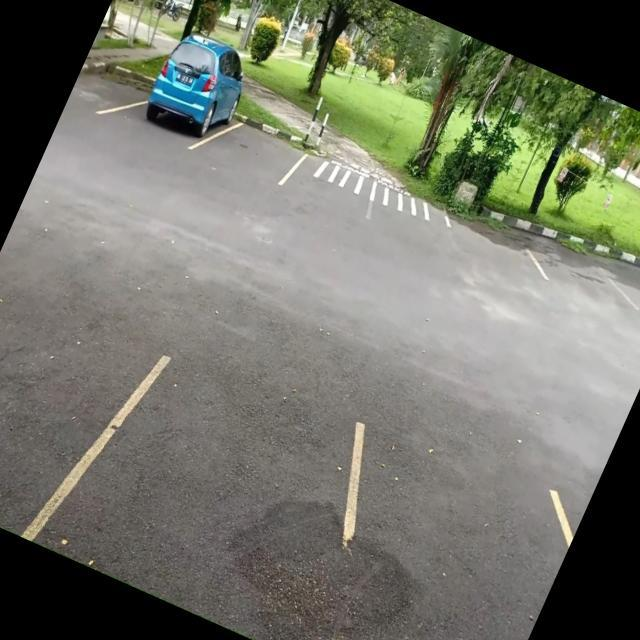empty: (43, 329, 377, 640), (275, 420, 584, 640), (205, 99, 312, 194)
occupied: (128, 54, 244, 162)
